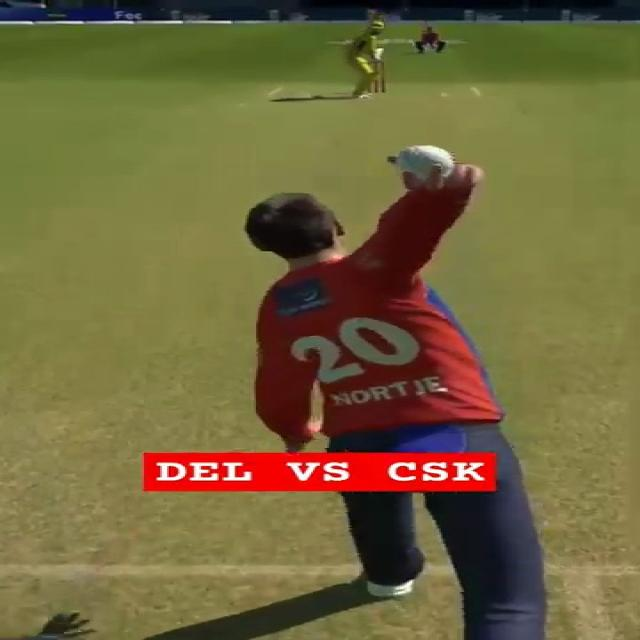ball: (395, 145, 453, 178)
